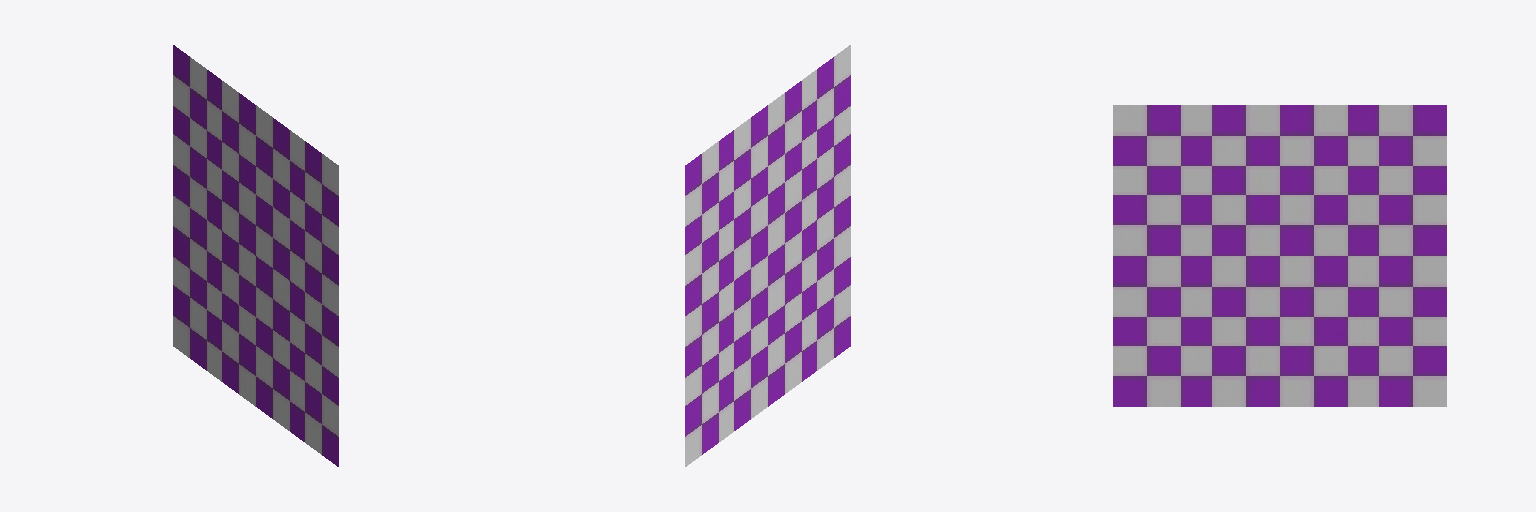
The picture shows the model from 3 angles: view 1: azimuth 30°, elevation 25°; view 2: azimuth 150°, elevation 25°; view 3: azimuth 270°, elevation 25°; orthographic projection.
Visible parts, largest first — view 1: Plane; view 2: Plane; view 3: Plane.
Boxes of the visible parts, box(x1,y1,x2,y2) form: Plane: box(173, 45, 338, 466); Plane: box(685, 45, 850, 466); Plane: box(1113, 105, 1446, 406).
Size of the model in its own units: 0 by 0.5029 by 0.5029.
Materials: 1 (1 with a texture image).